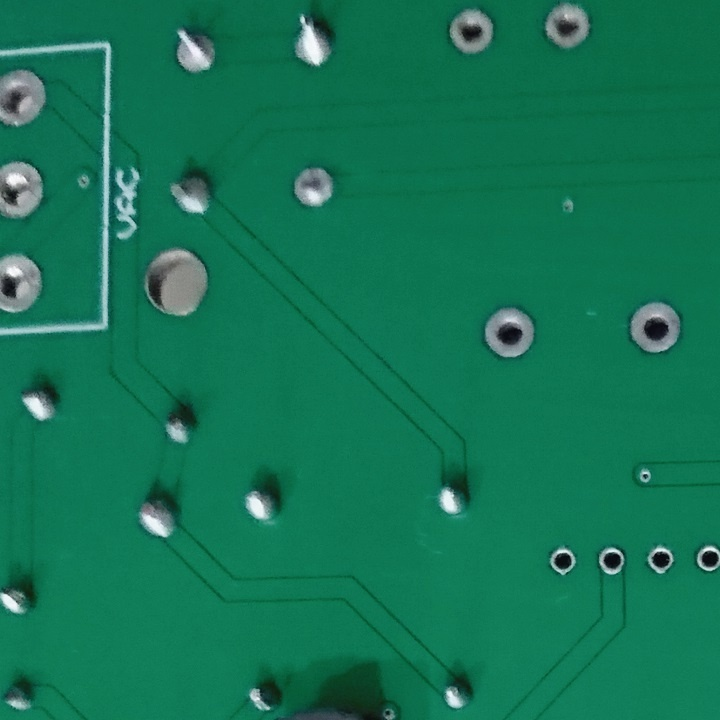F: (1, 63, 56, 130), (479, 303, 538, 364), (1, 155, 51, 226), (1, 246, 49, 318), (627, 298, 684, 357), (444, 6, 499, 63), (164, 23, 222, 77), (542, 3, 595, 59), (287, 162, 339, 211), (643, 543, 676, 579), (691, 542, 720, 580), (595, 544, 627, 578), (547, 544, 579, 578)
